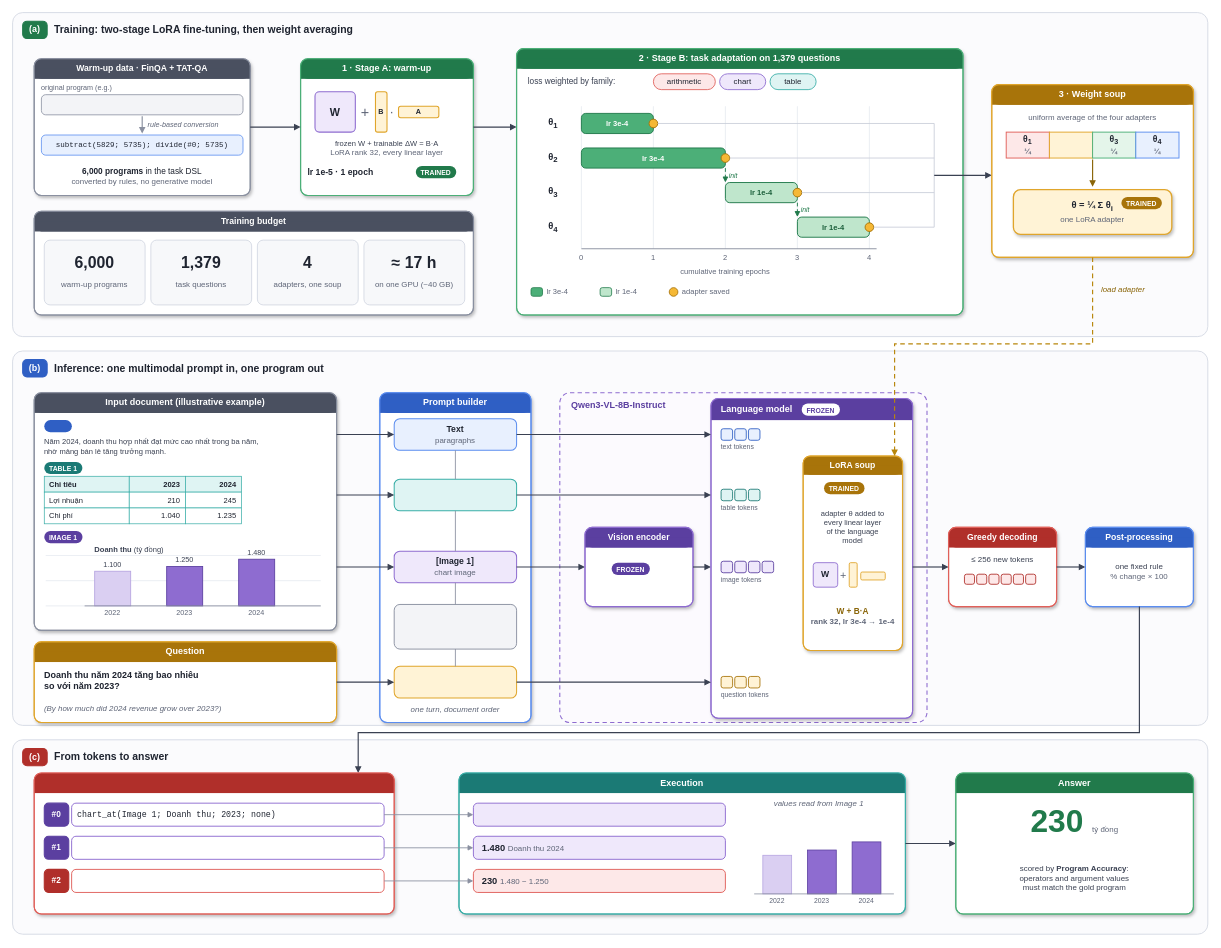
Image size: 1221x948. Some labels were removed from this diagram. The shapes that lost their labels are listed below. From the top down, each one's centre as x and y in pixels, then its label:
At point (142, 104): "subtract(5829, 5735), divide(#0, 5735)".
At point (1071, 144): "θ 2 ¼".
At point (57, 426): "TEXT".
At point (455, 494): "[Table 1] HTML → TSV".
At point (455, 626): "DSL contract operators, #k references".
At point (455, 681): "Question Vietnamese".
At point (214, 788): "Program".
At point (599, 814): "1.250 Doanh thu 2023".
At point (227, 847): "chart_at(Image 1; Doanh thu; 2024; none)".
At point (227, 881): "subtract(#1; #0)".
